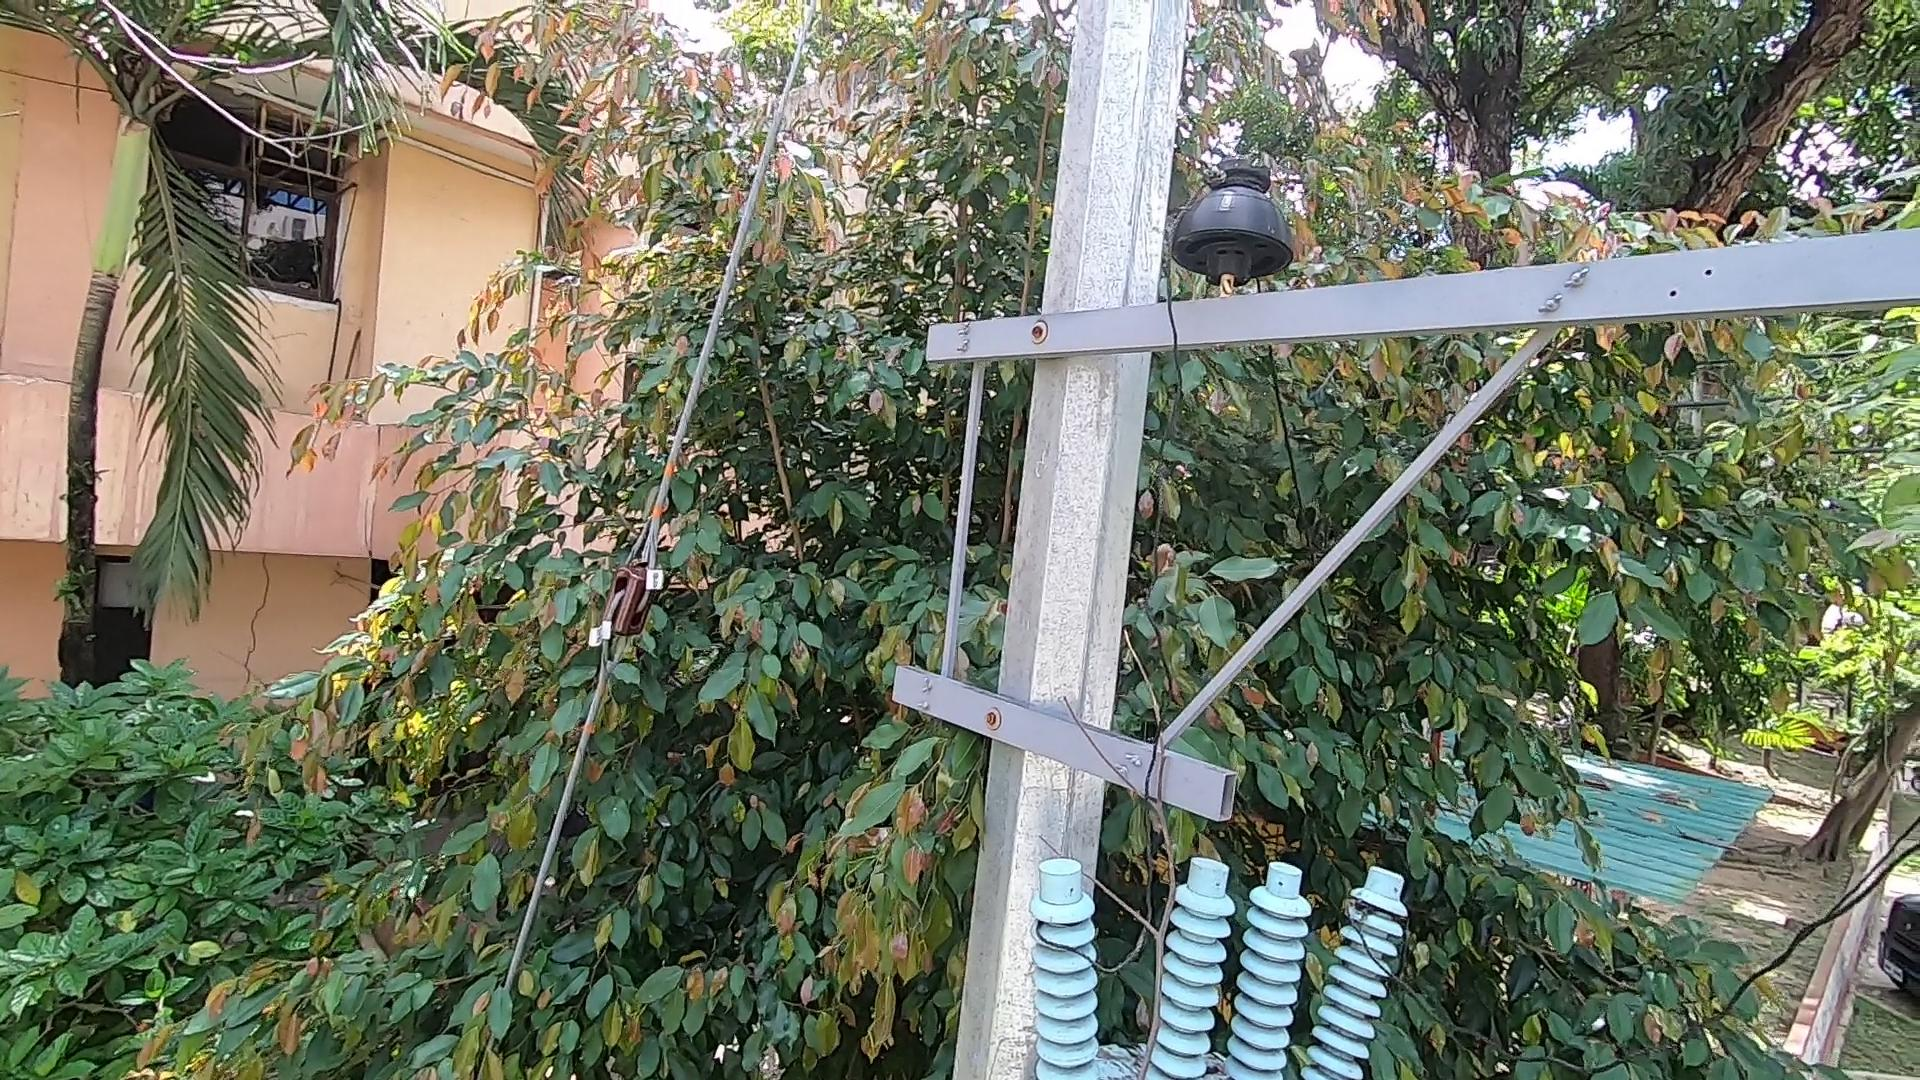tree branch: (1056, 600, 1224, 1077)
